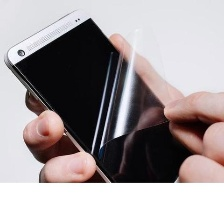phone: (1, 7, 223, 213)
